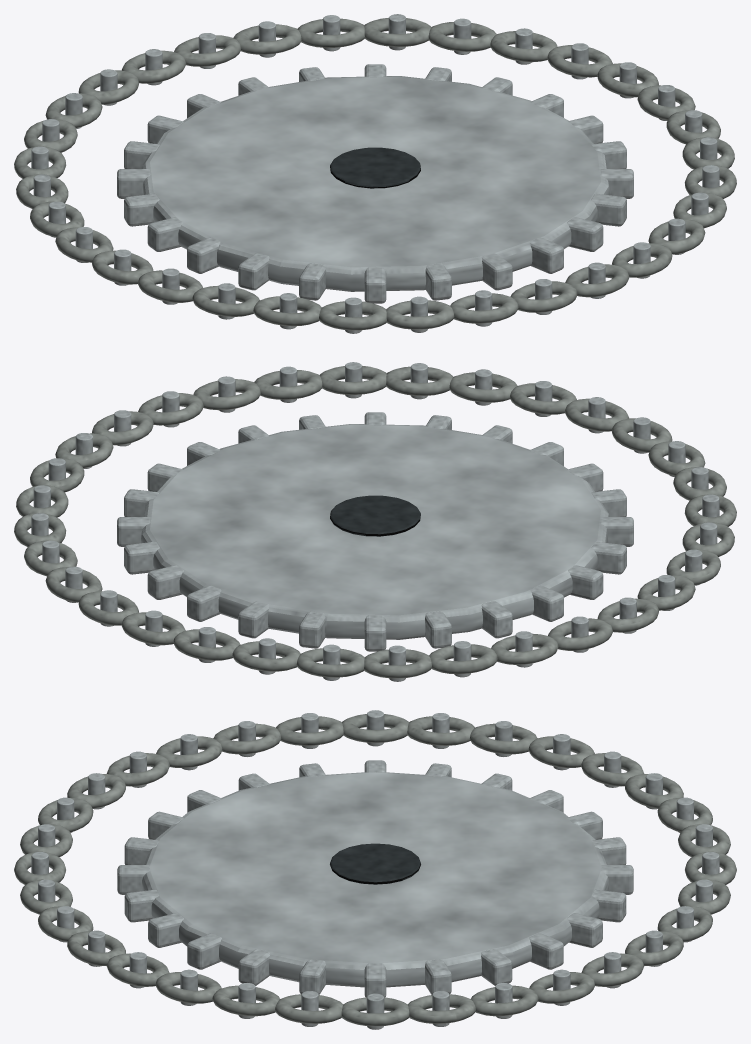
The model's file is GR_ChainSprocket_04.glb.
3 renders of one model, top to bottom at view 1: azimuth 30°, elevation 25°; view 2: azimuth 150°, elevation 25°; view 3: azimuth 270°, elevation 25°, orthographic.
Parts seen in each view (by area): view 1: Static; view 2: Static; view 3: Static.
Boxes of the visible parts, left/top/right/bottom form: Static: left=14, top=14, right=736, bottom=333; Static: left=14, top=362, right=736, bottom=681; Static: left=14, top=710, right=736, bottom=1029.
Size of the model in its own units: 0.332 by 0.0185 by 0.332.
1 material, 1 textured.
